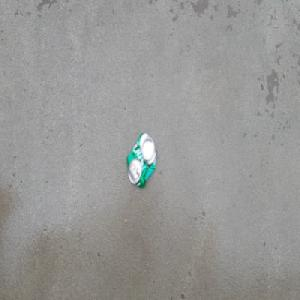SodaCan: (126, 131, 157, 189)
